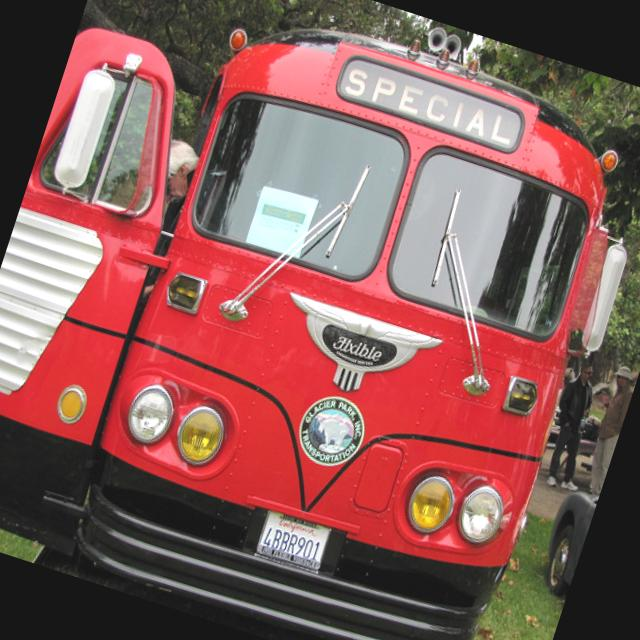Vehicle: (0, 0, 640, 640), (530, 480, 600, 602)
